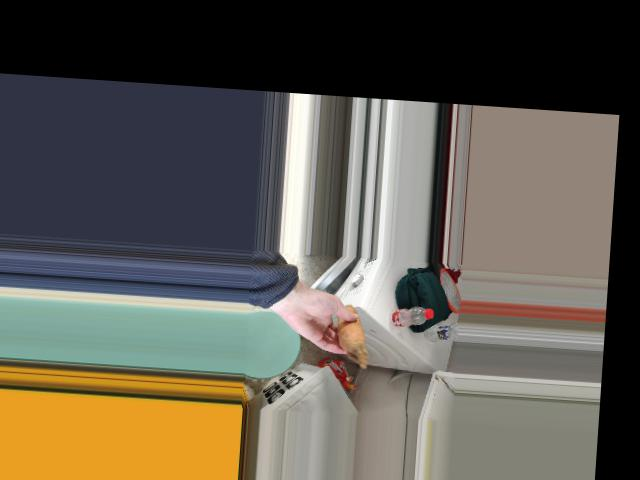sweet_potato: (337, 311, 366, 351)
